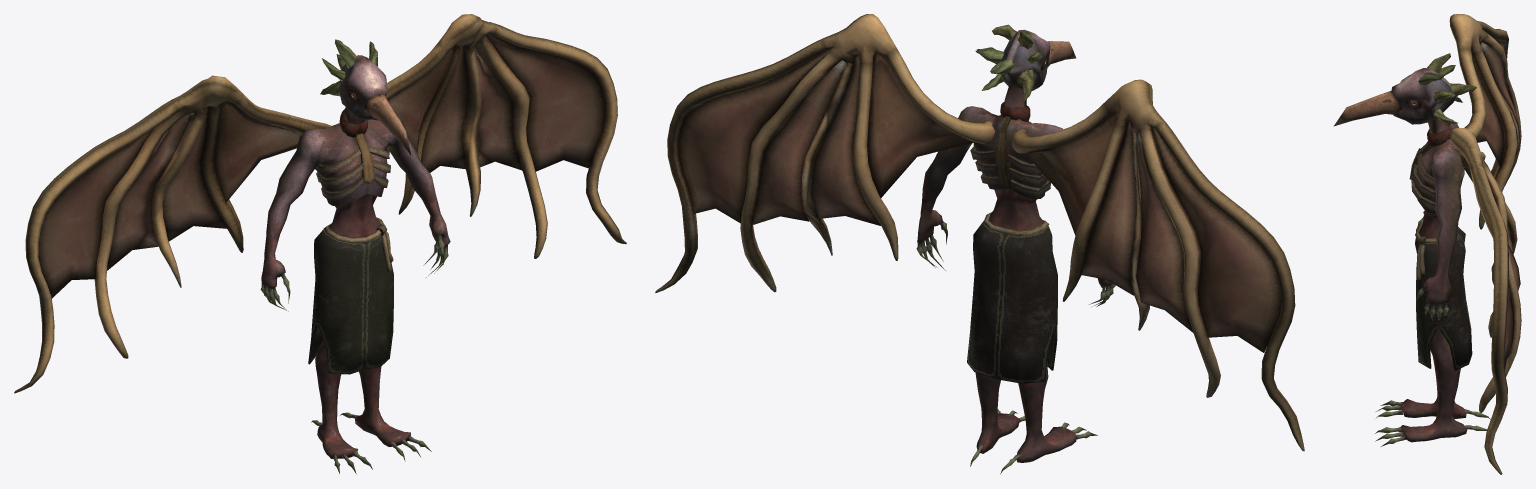
File: Boss.glb
3 views of the same model, side by side, from view 1: azimuth 30°, elevation 25°; view 2: azimuth 150°, elevation 25°; view 3: azimuth 270°, elevation 25° (orthographic). The views are drawn at different scales.
Visible parts, largest first — view 1: Wing, Body, Kilt; view 2: Wing, Body, Kilt; view 3: Body, Wing, Kilt.
Part boxes in pixels (x1,y1,x2,y2): Wing: [14, 14, 626, 393]; Body: [260, 39, 450, 473]; Kilt: [308, 217, 393, 374]; Wing: [655, 14, 1304, 451]; Body: [916, 24, 1115, 474]; Kilt: [967, 212, 1057, 383]; Body: [1333, 53, 1490, 446]; Wing: [1449, 14, 1521, 474]; Kilt: [1415, 223, 1472, 370].
Size of the model in its own units: 4.1 by 2.56 by 1.18.
Materials: 1 (1 with a texture image).
